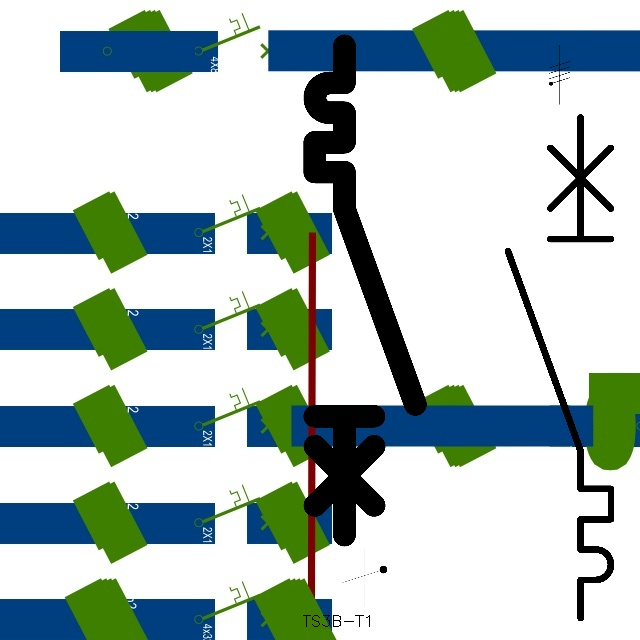interruptor_termomagnetico: (495, 104, 624, 631), (302, 33, 428, 548)
